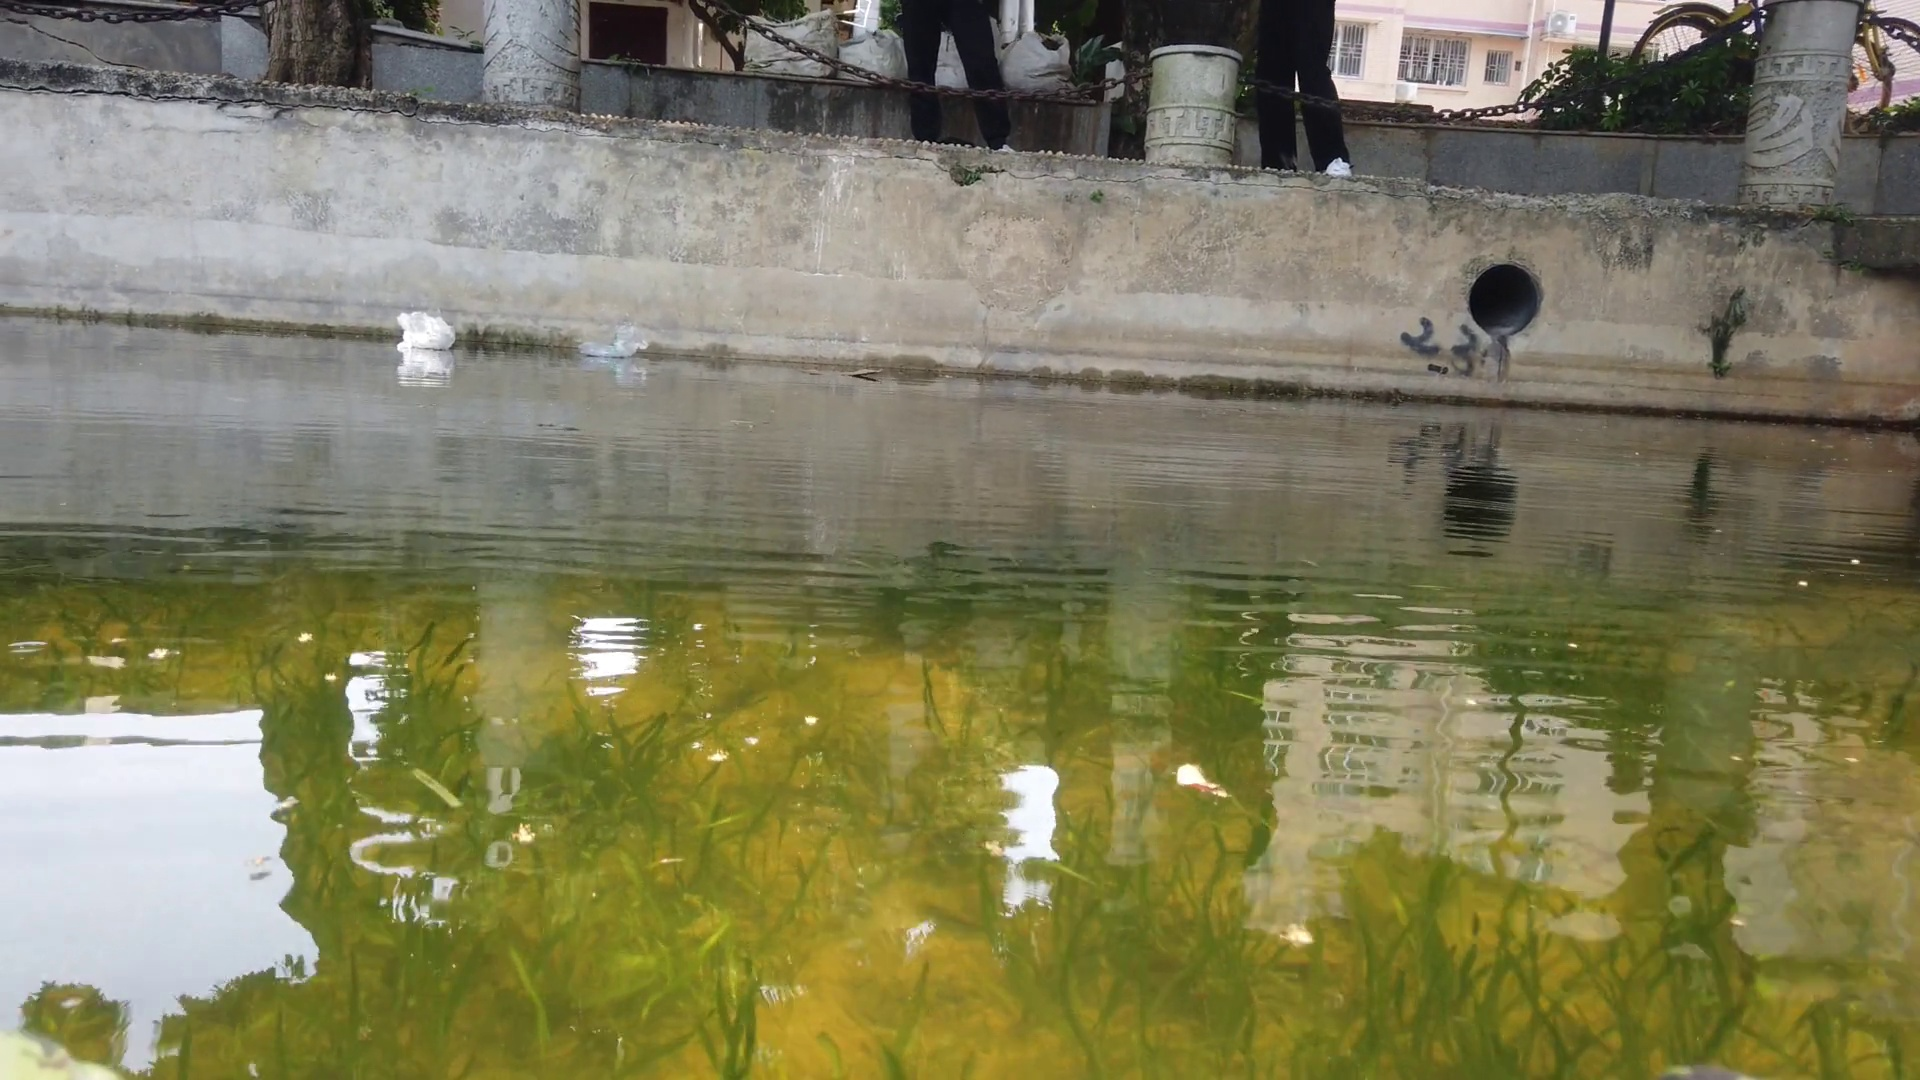paper: (800, 364, 887, 382)
plastic: (396, 310, 456, 349), (578, 326, 647, 357)
